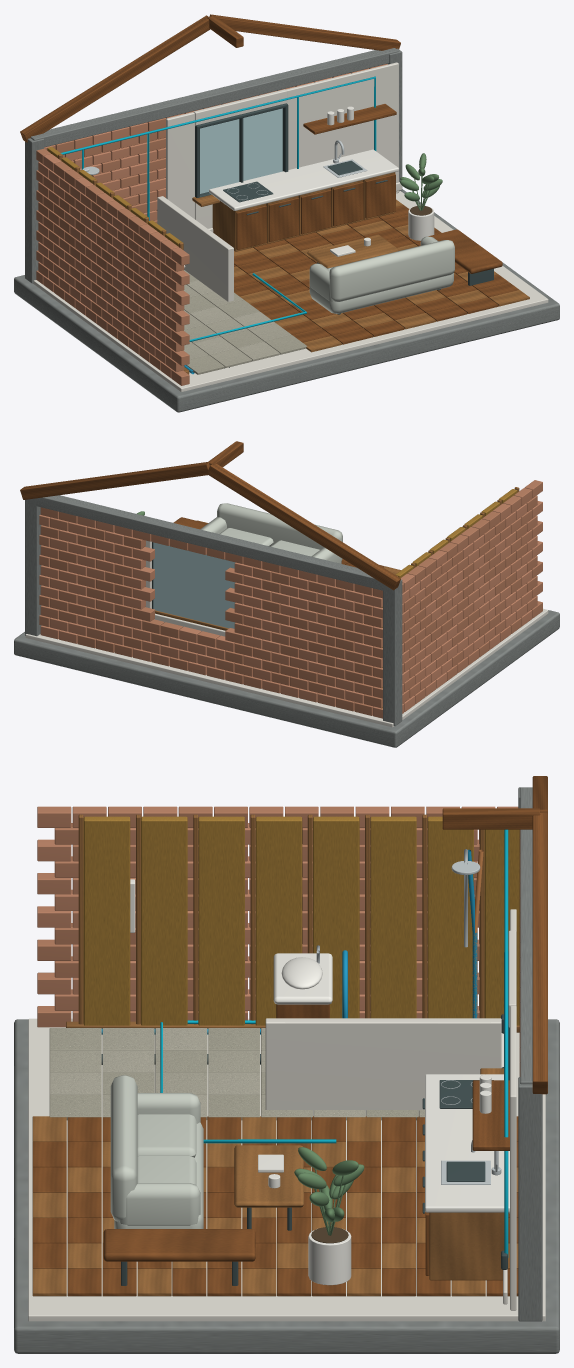
File: renovation-house.glb
The picture shows the model from 3 angles, top to bottom: view 1: azimuth 30°, elevation 25°; view 2: azimuth 150°, elevation 25°; view 3: azimuth 270°, elevation 25°; orthographic projection. The views are drawn at different scales.
Visible parts, largest first — view 1: Foundation raft, finish | Natural oak, masonry | Brick 0, Rear finished wall east, masonry | Brick 1, masonry | Brick 3, masonry | Brick 2, Rear lintel, Screed edge, finish | Pale oak, Glass pane, Linen sofa back (+27 smaller); view 2: masonry | Brick 0, masonry | Brick 3, masonry | Brick 2, masonry | Brick 1, Foundation raft, Rear lintel, Glass pane, Screed edge, Roof rear left rafter, Left rear pier, Roof rear right rafter, Linen sofa back (+5 smaller); view 3: finish | Natural oak, Foundation raft, Screed edge, Bathroom half wall, finish | Pale oak, Mineral wool panel 0, Mineral wool panel 2, Mineral wool panel 1, Mineral wool panel 5, Mineral wool panel 6, Mineral wool panel 3, Mineral wool panel 4 (+54 smaller).
Part boxes in pixels (x1,y1,x2,y2): Foundation raft: (14, 189, 559, 412); finish | Natural oak: (234, 205, 519, 344); masonry | Brick 0: (36, 64, 387, 385); Rear finished wall east: (286, 62, 398, 193); masonry | Brick 1: (36, 86, 295, 371); masonry | Brick 3: (38, 77, 332, 356); masonry | Brick 2: (36, 73, 350, 377); Rear lintel: (30, 48, 398, 147); Screed edge: (33, 191, 548, 391); finish | Pale oak: (234, 199, 529, 352); Glass pane: (200, 108, 282, 193); Linen sofa back: (329, 240, 454, 301); masonry | Brick 0: (39, 495, 542, 715); masonry | Brick 3: (39, 503, 532, 711); masonry | Brick 2: (39, 501, 542, 718); masonry | Brick 1: (39, 480, 542, 704); Foundation raft: (14, 610, 559, 747); Rear lintel: (28, 495, 390, 591); Glass pane: (153, 542, 235, 628); Screed edge: (25, 608, 548, 727); Roof rear left rafter: (207, 463, 400, 590); Left rear pier: (383, 579, 402, 725); Roof rear right rafter: (20, 462, 209, 499); Linen sofa back: (217, 503, 342, 561); finish | Natural oak: (32, 1116, 518, 1296); Foundation raft: (14, 1019, 559, 1353); Screed edge: (28, 1018, 545, 1321); Bathroom half wall: (265, 1018, 501, 1116); finish | Pale oak: (32, 1116, 518, 1296); Mineral wool panel 0: (83, 816, 130, 1025); Mineral wool panel 2: (198, 816, 244, 1025); Mineral wool panel 1: (141, 816, 187, 1025); Mineral wool panel 5: (370, 816, 416, 1018); Mineral wool panel 6: (427, 816, 473, 1018); Mineral wool panel 3: (255, 816, 302, 1025); Mineral wool panel 4: (313, 816, 359, 1018).
Bounding box in the file's own units: 8.2 × 4.8 × 6.1.
Materials: 22 (7 with a texture image).
